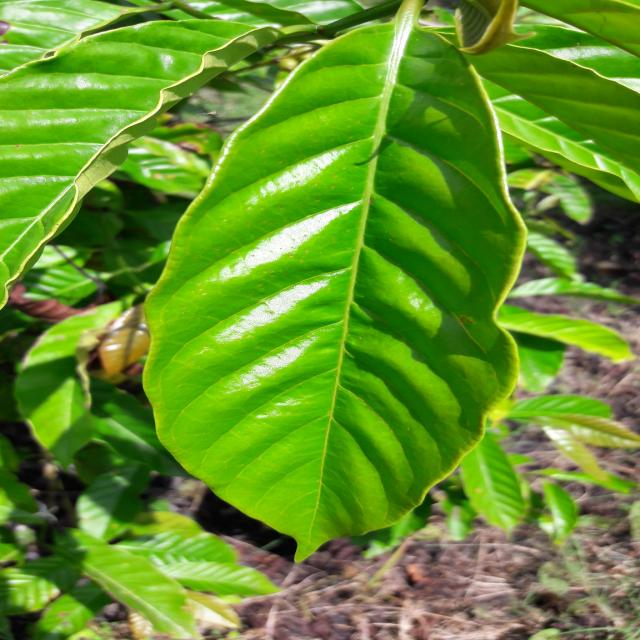Sanas: (141, 0, 530, 564)
